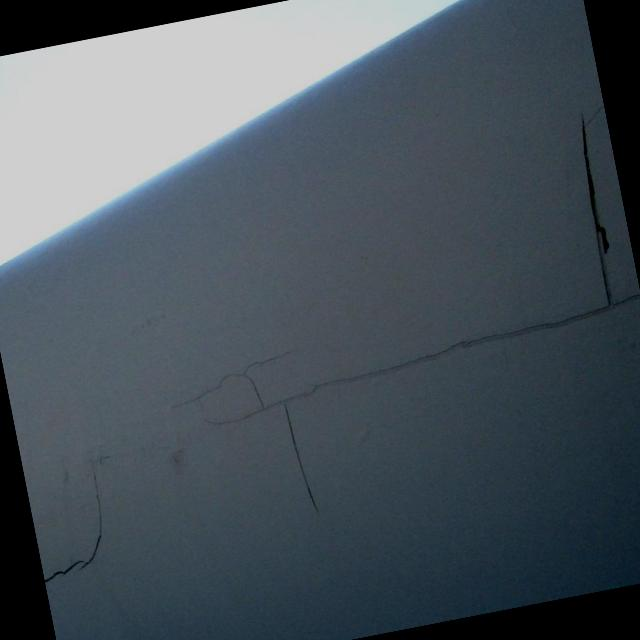crack: (199, 291, 640, 430), (176, 347, 344, 536), (567, 111, 628, 318), (28, 467, 118, 588)
